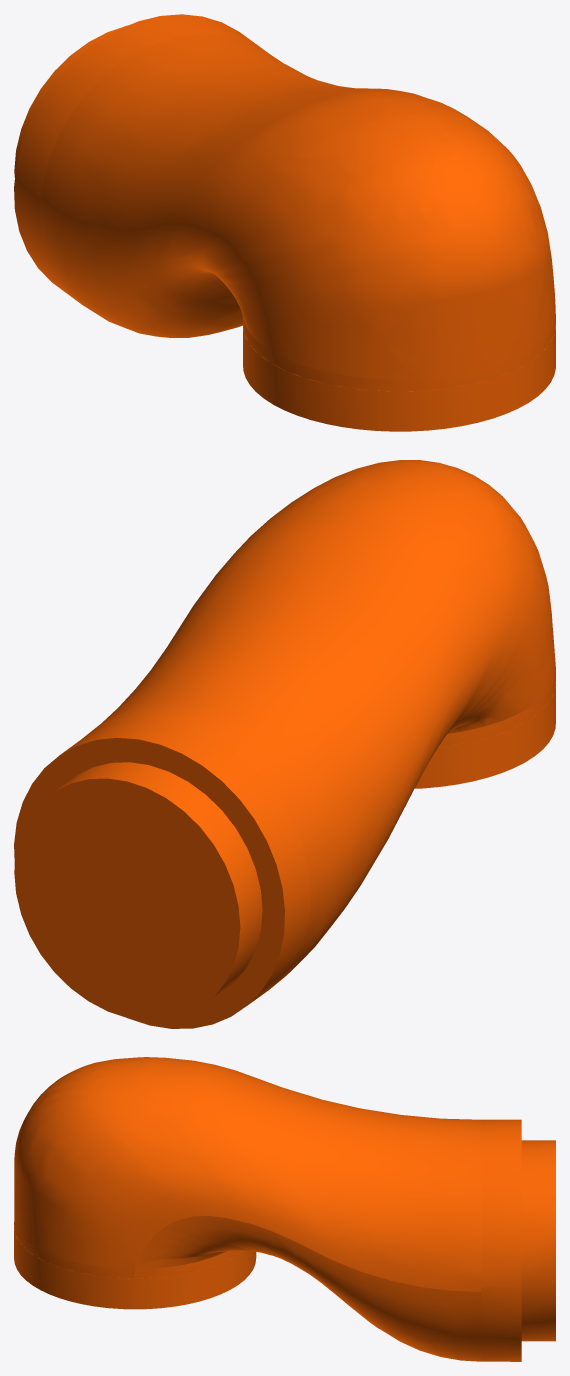
3 renders of one model, top to bottom at view 1: azimuth 30°, elevation 25°; view 2: azimuth 150°, elevation 25°; view 3: azimuth 270°, elevation 25°, orthographic. The views are drawn at different scales.
Parts seen in each view (by area): view 1: Node_0x282ff10; view 2: Node_0x282ff10; view 3: Node_0x282ff10.
Part boxes in pixels (x1,y1,x2,y2): Node_0x282ff10: (14,14,555,431); Node_0x282ff10: (14,460,555,1028); Node_0x282ff10: (14,1057,555,1361).
Size of the model in its own units: 120 by 154 by 268.
